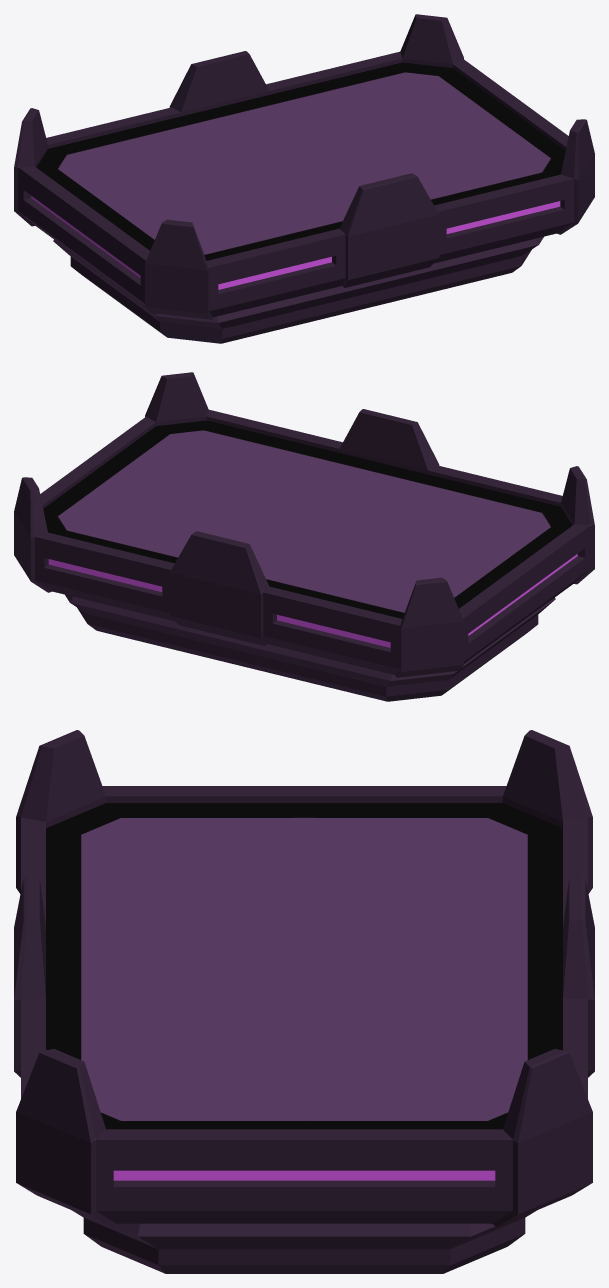
The model's file is platform.fbx.
The picture shows the model from 3 angles, top to bottom: view 1: azimuth 30°, elevation 25°; view 2: azimuth 150°, elevation 25°; view 3: azimuth 270°, elevation 25°; orthographic projection. The views are drawn at different scales.
Parts seen in each view (by area): view 1: Cube.003; view 2: Cube.003; view 3: Cube.003.
Boxes of the visible parts, bbox=[...] form: Cube.003: bbox=[14, 14, 594, 343]; Cube.003: bbox=[14, 372, 594, 701]; Cube.003: bbox=[14, 730, 594, 1273].
Size of the model in its own units: 1189 by 815 by 360.
Materials: 1 (1 with a texture image).
